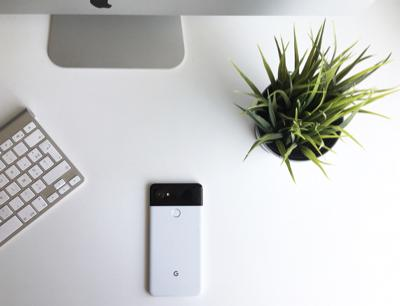cell-phone: (144, 180, 209, 300)
